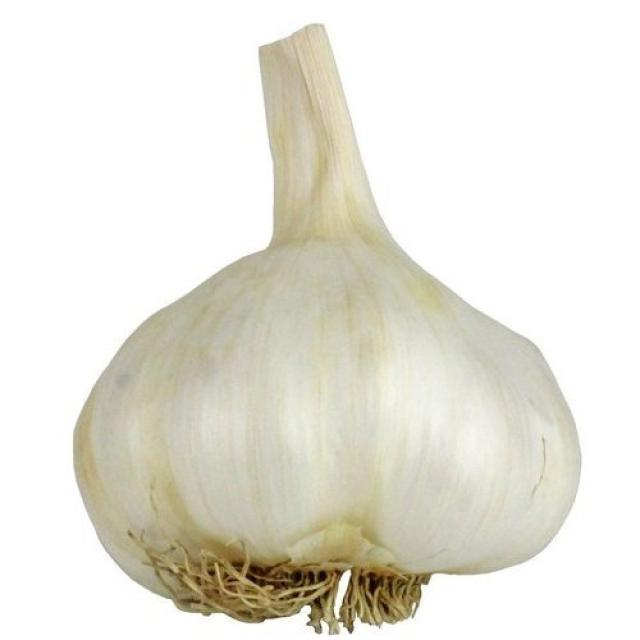garlic: (58, 222, 585, 620)
